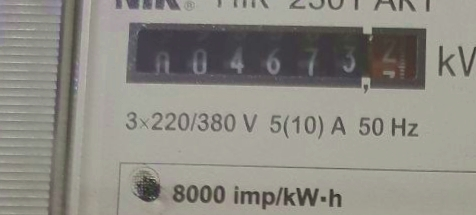0: (151, 46, 172, 76), (189, 44, 208, 76)
2: (378, 33, 399, 65)
3: (339, 41, 357, 75)
4: (227, 41, 246, 77)
6: (261, 42, 283, 76)
7: (299, 43, 322, 80)
screen: (121, 16, 431, 99)
